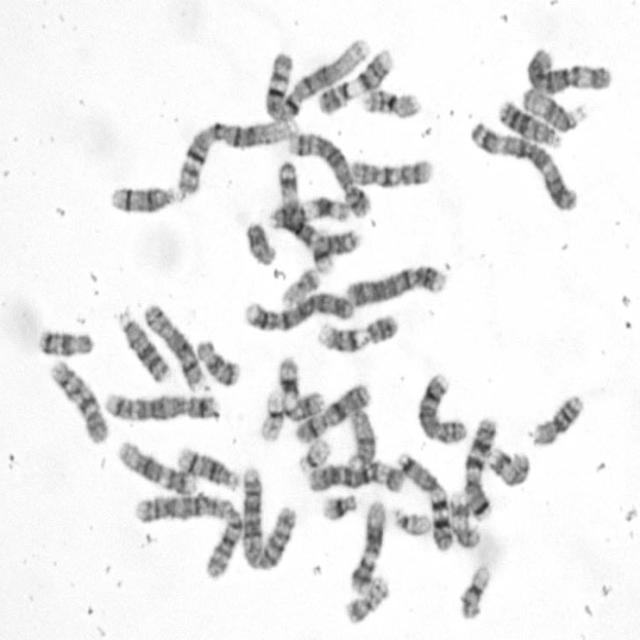A1: (172, 111, 300, 197), (260, 32, 374, 122)
A2: (128, 486, 246, 580), (237, 459, 300, 573)
A3: (466, 114, 582, 214), (272, 155, 363, 258)
B4: (240, 285, 356, 333), (342, 257, 449, 308)
B5: (286, 126, 374, 220), (100, 384, 222, 423)
C10: (45, 352, 112, 446), (344, 151, 437, 189)
C11: (273, 352, 326, 424), (266, 192, 352, 230)
C12: (114, 435, 200, 497), (345, 495, 388, 596)
C6: (523, 42, 615, 94), (304, 455, 408, 494)
C7: (392, 446, 456, 554), (461, 411, 501, 520)
C8: (138, 296, 208, 392), (412, 367, 470, 446)
C9: (314, 42, 396, 116), (312, 307, 401, 355)
D13: (114, 303, 172, 384), (495, 94, 563, 149)
D14: (173, 439, 243, 492), (105, 177, 185, 216)
D15: (518, 80, 589, 134), (343, 402, 379, 470)
E16: (528, 386, 586, 449), (356, 81, 424, 120)
E17: (445, 487, 483, 550), (483, 442, 532, 488)
E18: (192, 333, 244, 388), (34, 324, 96, 358)
F19: (456, 559, 494, 621), (256, 385, 286, 444)
F20: (340, 568, 393, 627), (277, 261, 322, 308)
G21: (316, 487, 359, 523), (311, 227, 338, 276)
G22: (388, 502, 434, 538), (294, 432, 333, 473)
X: (290, 377, 372, 445)
Y: (242, 216, 278, 267)
